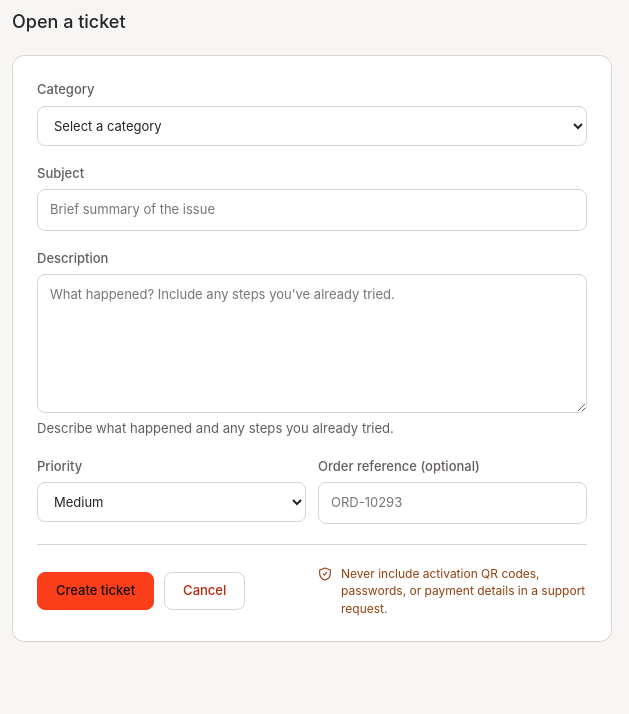
it: TicketCreate › blocks submission and explains missing required fields
Click the button "Create ticket" at [96, 591], box 37,572 -> 154,610
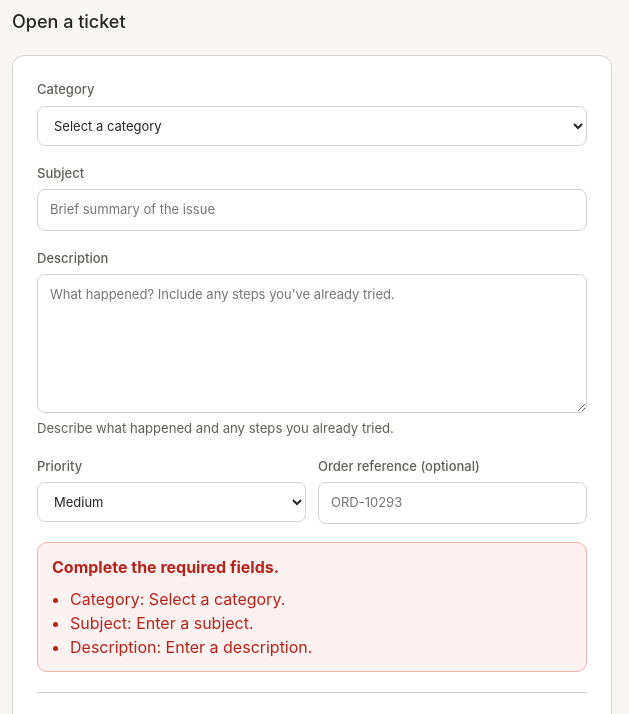
Result: the text "Complete the required fields." is shown at 52,557 -> 279,577
